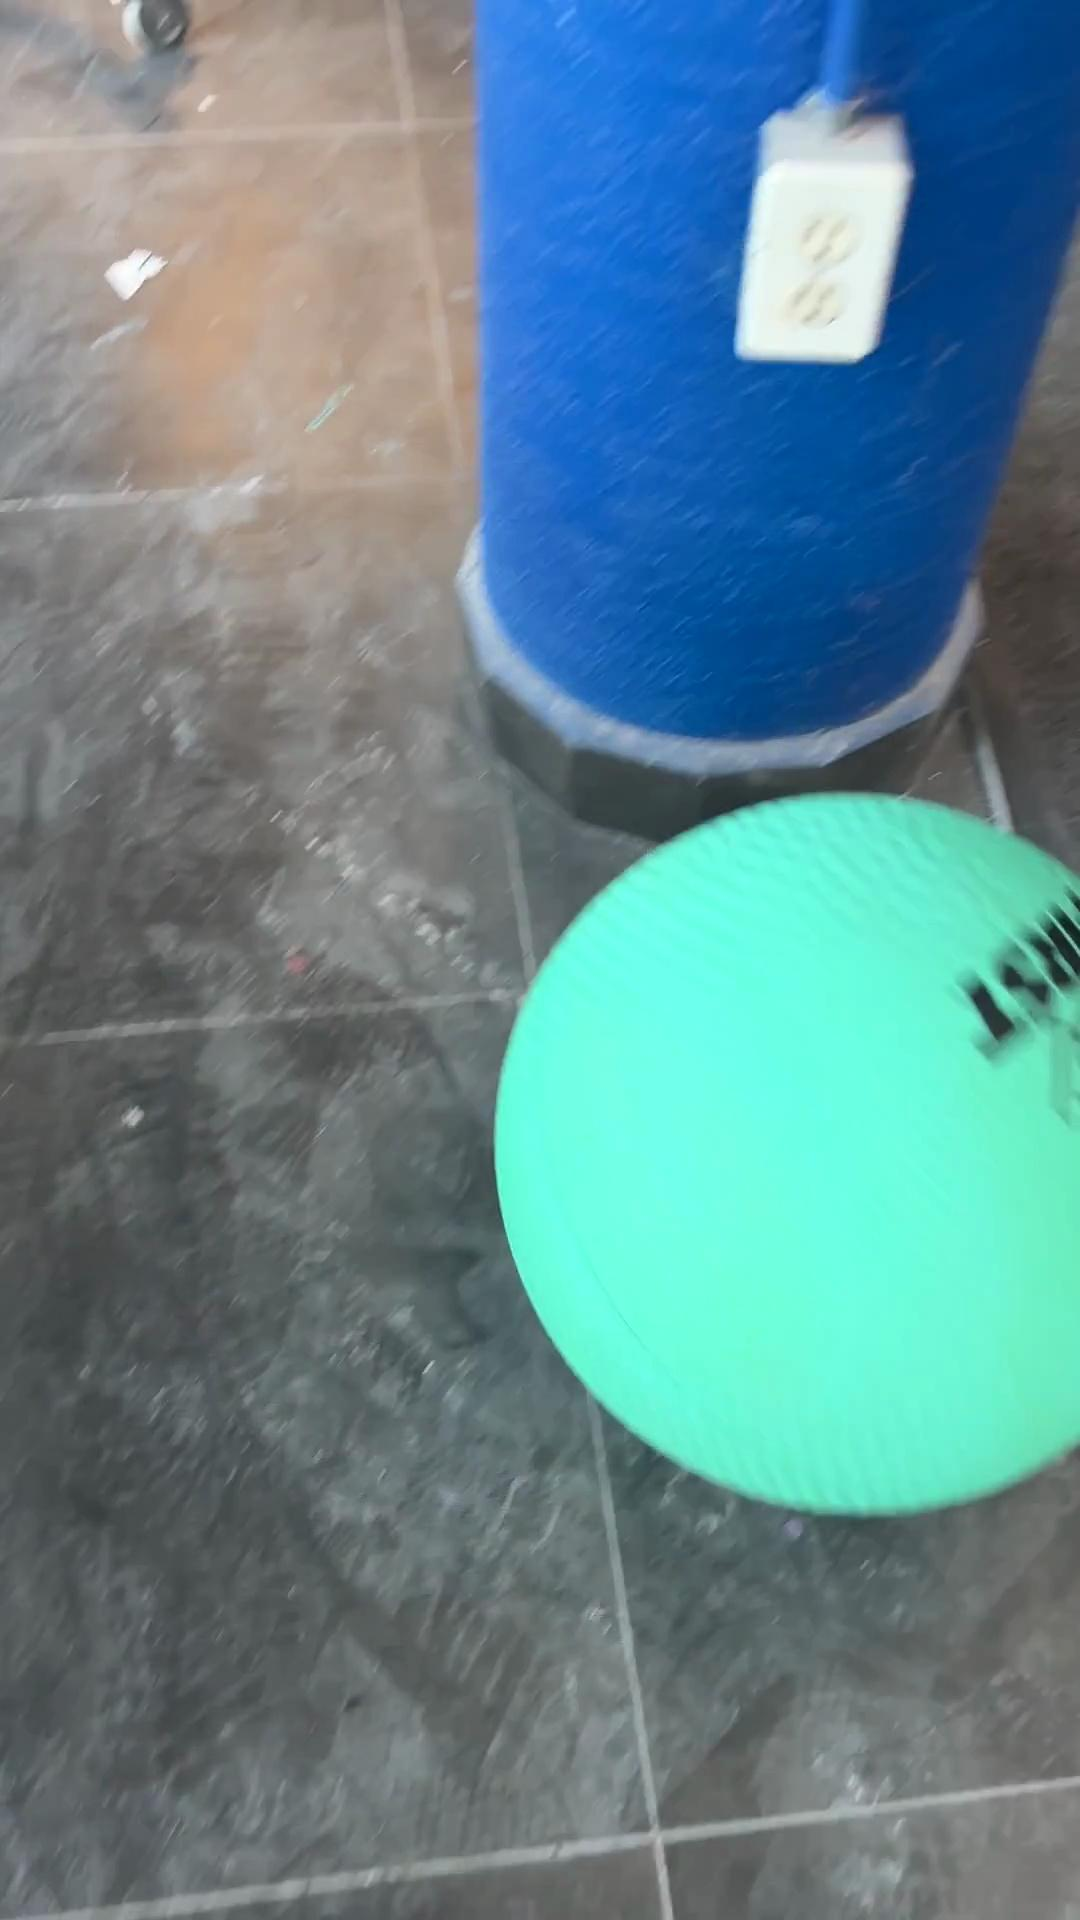ALGAE: (491, 787, 1077, 1519)
